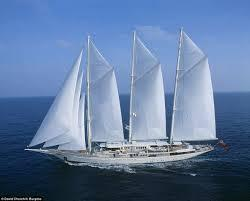Ship: (14, 27, 225, 177)
